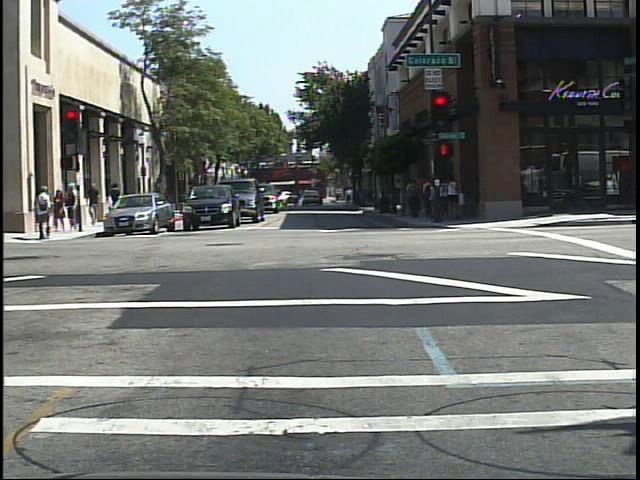person: (32, 184, 55, 242)
